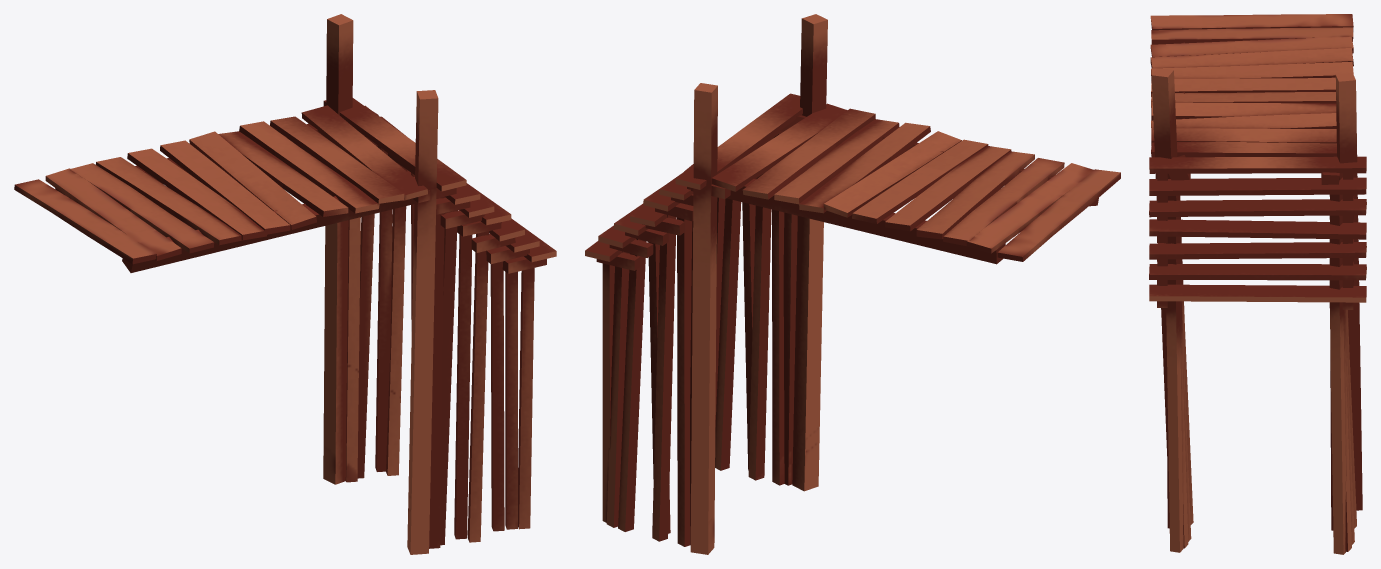
Rendered from Dock.glb.
3 renders of one model, left to right at view 1: azimuth 30°, elevation 25°; view 2: azimuth 150°, elevation 25°; view 3: azimuth 270°, elevation 25°, orthographic. The views are drawn at different scales.
Visible parts, largest first — view 1: Dock; view 2: Dock; view 3: Dock.
Boxes of the visible parts, bbox=[...] form: Dock: bbox=[14, 14, 556, 554]; Dock: bbox=[585, 14, 1120, 554]; Dock: bbox=[1149, 14, 1366, 554].
Bounding box in the file's own units: 5.76 × 5.89 × 2.7.
Materials: 1 (1 with a texture image).
